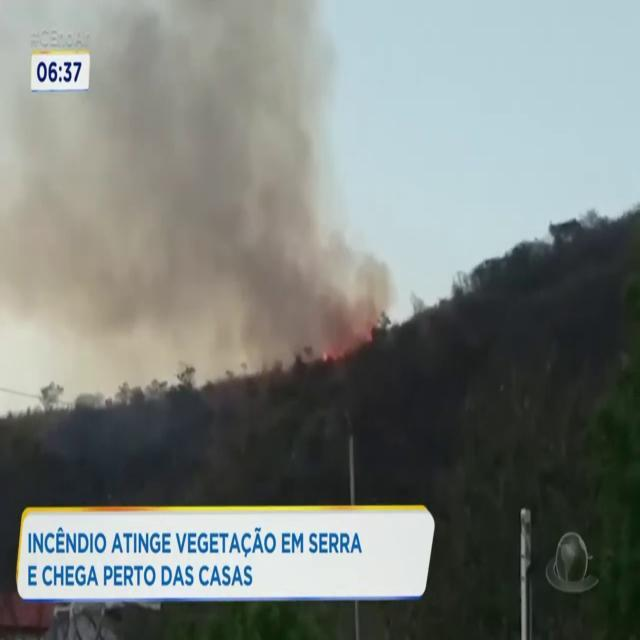Fire: (312, 325, 384, 372)
Smoke: (0, 0, 300, 393), (302, 8, 396, 318)
